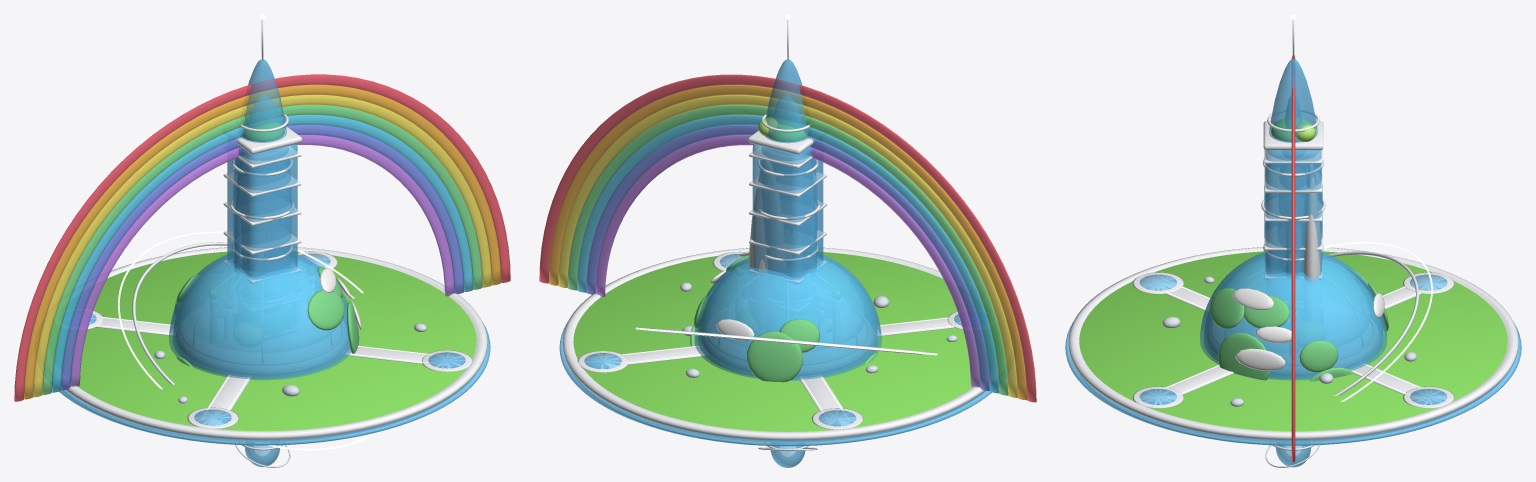
File: kit.glb
3 views of the same model, side by side, from view 1: azimuth 30°, elevation 25°; view 2: azimuth 150°, elevation 25°; view 3: azimuth 270°, elevation 25° (orthographic).
Visible parts, largest first — view 1: ile_m, arc_en_ciel_m, globe_m, tour_b_m, tour_a_m, tour_c_m, anneau_m; view 2: ile_m, arc_en_ciel_m, globe_m, tour_b_m, tour_a_m, tour_c_m, anneau_m; view 3: ile_m, globe_m, tour_b_m, tour_a_m, tour_c_m, arc_en_ciel_m, anneau_m.
Part boxes in pixels (x1=…): ile_m: x1=59, y1=247, x2=490, y2=467; arc_en_ciel_m: x1=14, y1=74, x2=510, y2=401; globe_m: x1=169, y1=253, x2=361, y2=380; tour_b_m: x1=223, y1=120, x2=302, y2=283; tour_a_m: x1=230, y1=14, x2=294, y2=274; tour_c_m: x1=233, y1=96, x2=286, y2=272; anneau_m: x1=118, y1=231, x2=382, y2=450; ile_m: x1=559, y1=247, x2=991, y2=467; arc_en_ciel_m: x1=539, y1=74, x2=1036, y2=402; globe_m: x1=690, y1=251, x2=881, y2=382; tour_b_m: x1=748, y1=117, x2=826, y2=283; tour_a_m: x1=757, y1=14, x2=820, y2=275; tour_c_m: x1=748, y1=96, x2=816, y2=272; anneau_m: x1=635, y1=327, x2=937, y2=355; ile_m: x1=1065, y1=247, x2=1521, y2=467; globe_m: x1=1200, y1=252, x2=1388, y2=381; tour_b_m: x1=1263, y1=117, x2=1323, y2=279; tour_a_m: x1=1261, y1=14, x2=1325, y2=272; tour_c_m: x1=1278, y1=95, x2=1321, y2=282; arc_en_ciel_m: x1=1291, y1=55, x2=1295, y2=462; anneau_m: x1=1172, y1=241, x2=1432, y2=440.
Bounding box in the file's own units: 61.2 × 53.2 × 48.7.
